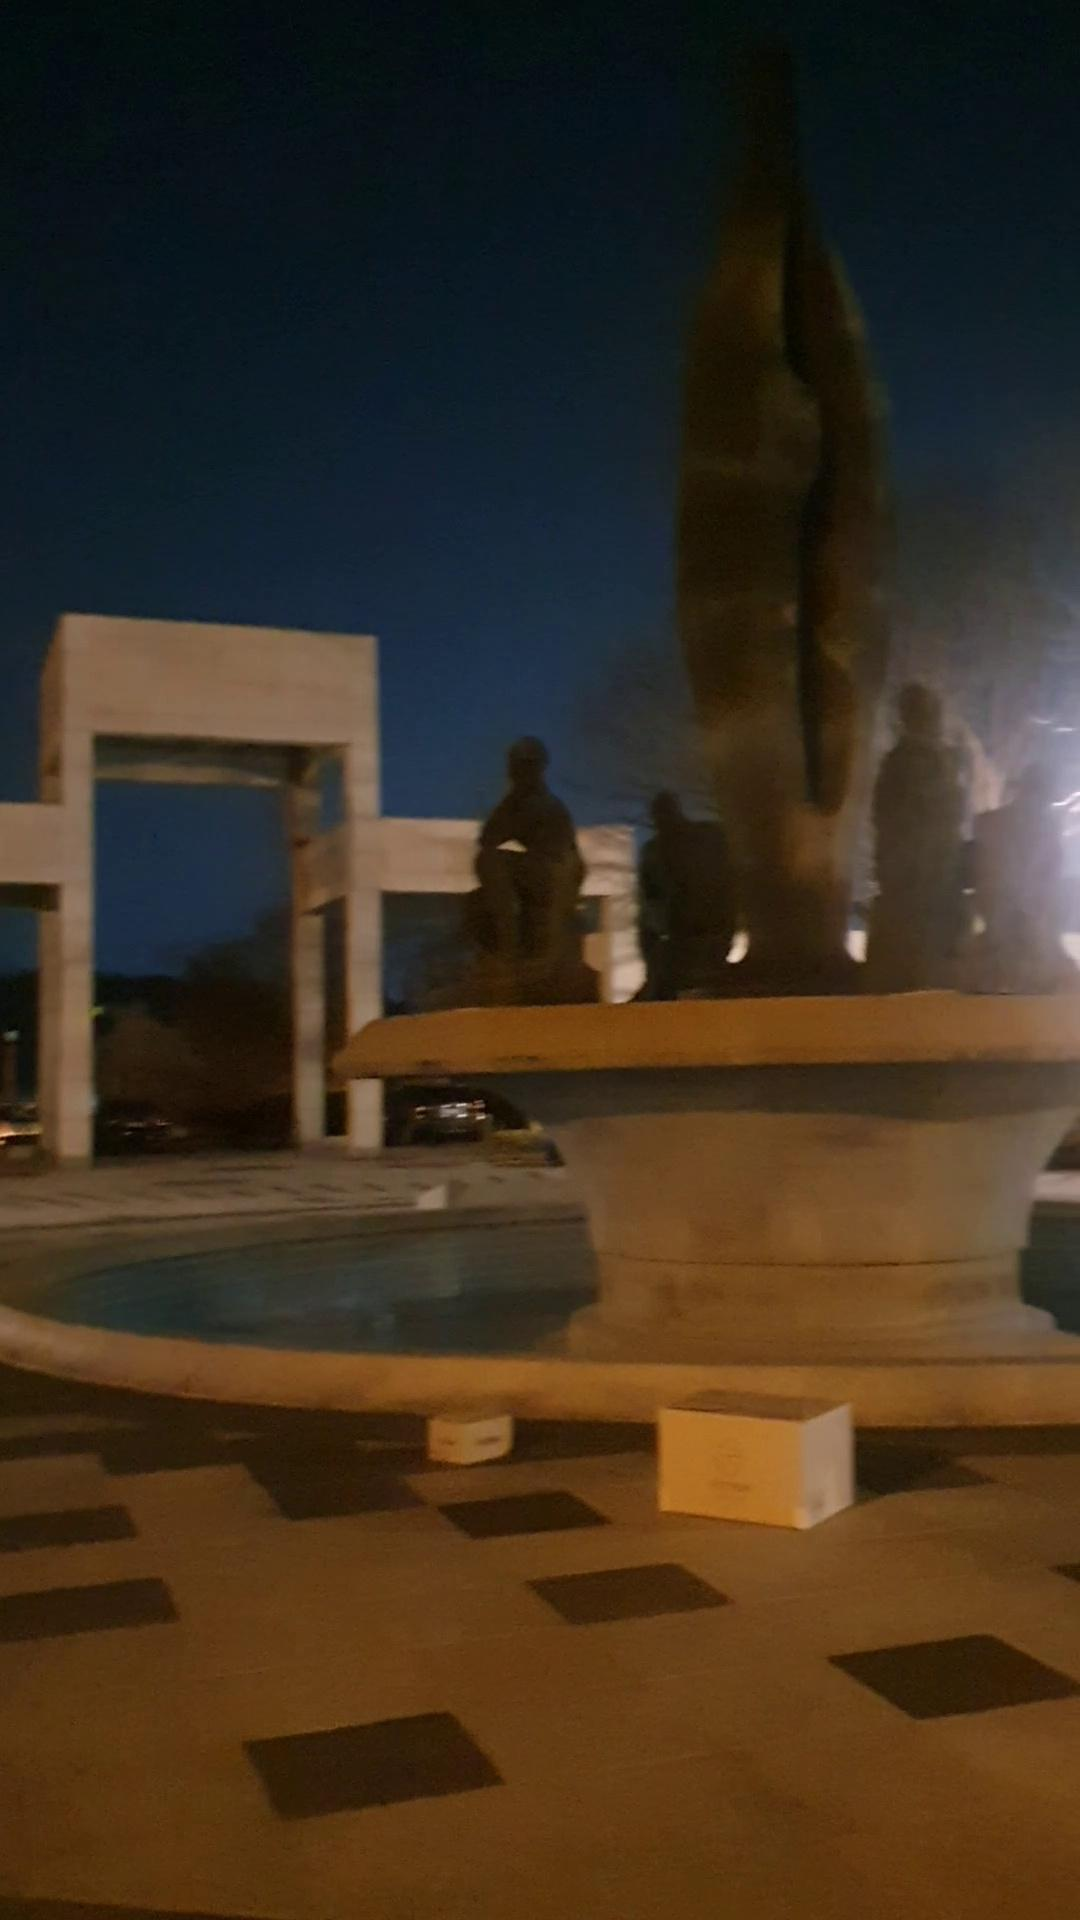Box: (658, 1379, 855, 1538), (423, 1393, 512, 1470)
